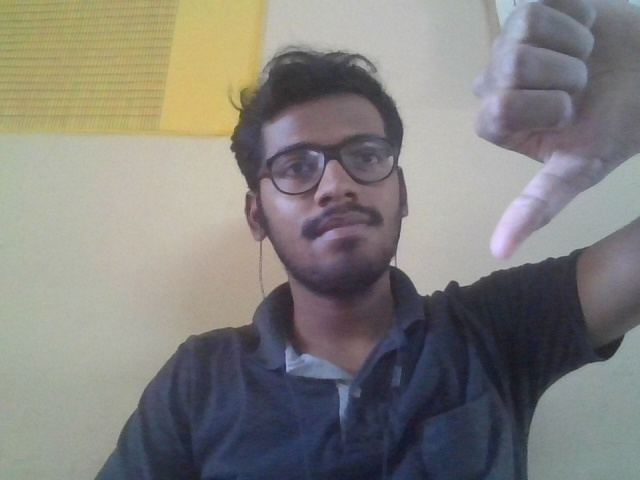ThumbsDown: (474, 1, 640, 259)
